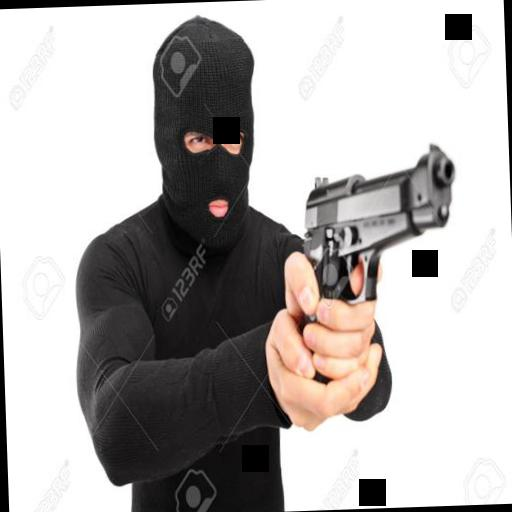Handgun: (294, 142, 460, 358)
